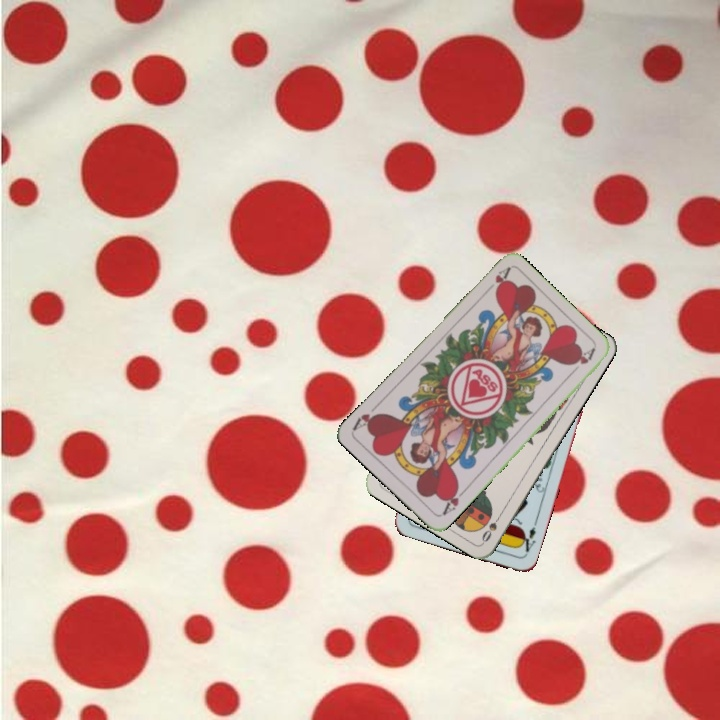EA: (516, 518, 539, 557)
HA: (438, 482, 469, 518), (480, 264, 512, 297)
SO: (478, 508, 505, 545)
